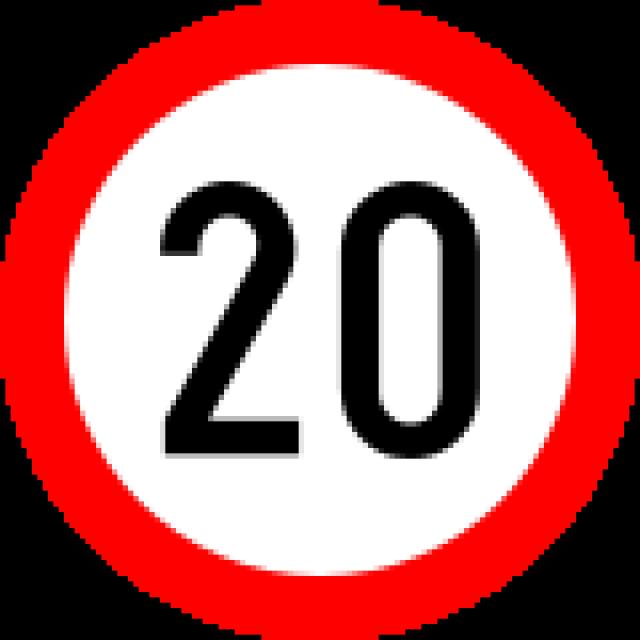Speed Limit -20-: (158, 175, 493, 462)
